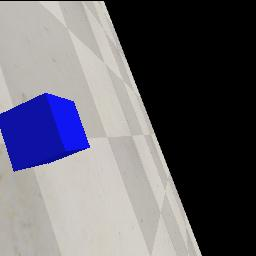box: (0, 93, 90, 172)
